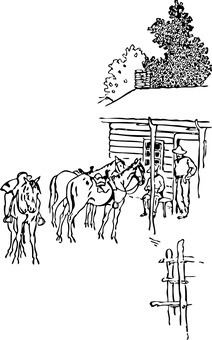horse: (64, 162, 147, 244), (48, 158, 132, 235), (5, 168, 48, 270)
person: (167, 140, 198, 221), (142, 158, 164, 221)
